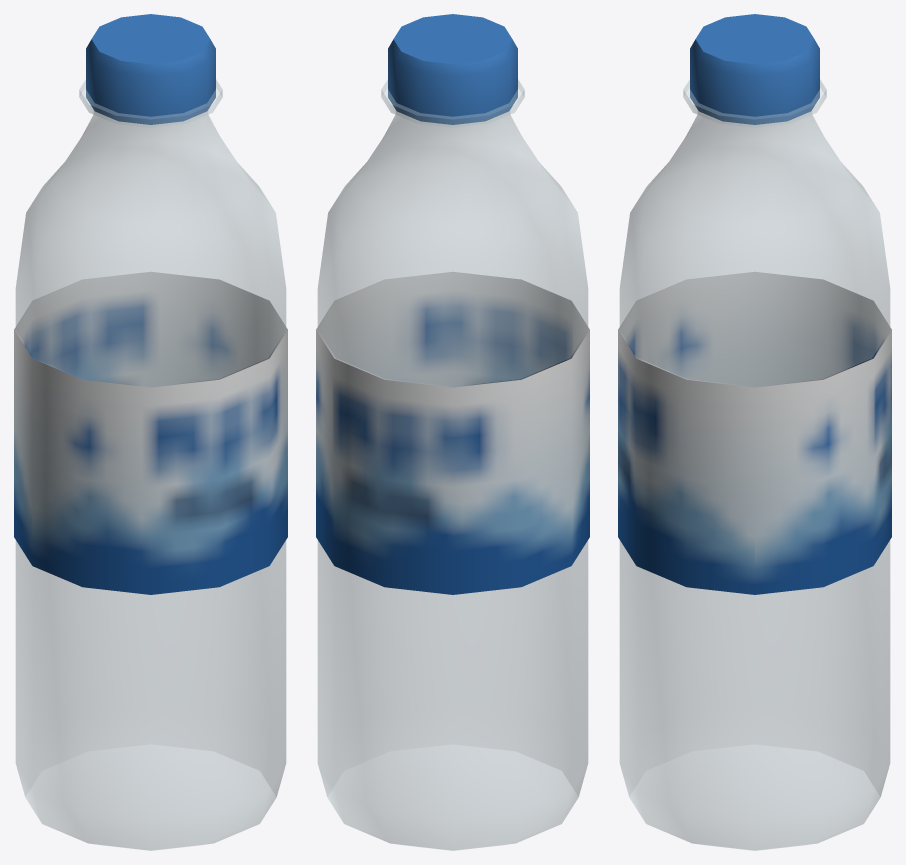
Rendered from SC_Prod_Water_PET_500.gltf.
3 renders of one model, left to right at view 1: azimuth 30°, elevation 25°; view 2: azimuth 150°, elevation 25°; view 3: azimuth 270°, elevation 25°, orthographic.
Parts seen in each view (by area): view 1: SC_Prod_Water_PET_500; view 2: SC_Prod_Water_PET_500; view 3: SC_Prod_Water_PET_500.
Boxes of the visible parts, left/top/right/bottom form: SC_Prod_Water_PET_500: left=14, top=14, right=287, bottom=850; SC_Prod_Water_PET_500: left=316, top=14, right=589, bottom=850; SC_Prod_Water_PET_500: left=618, top=14, right=891, bottom=850.
Size of the model in its own units: 0.0658 by 0.204 by 0.0658.
3 materials, 3 textured.
